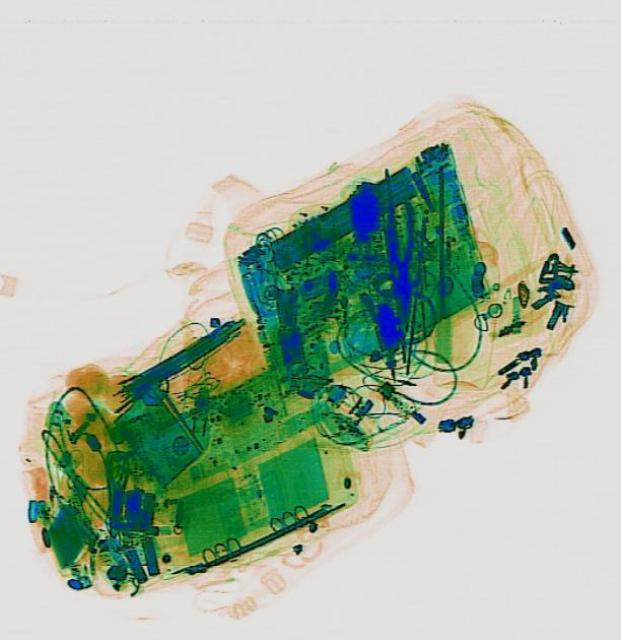Pliers: (383, 200, 418, 328)
